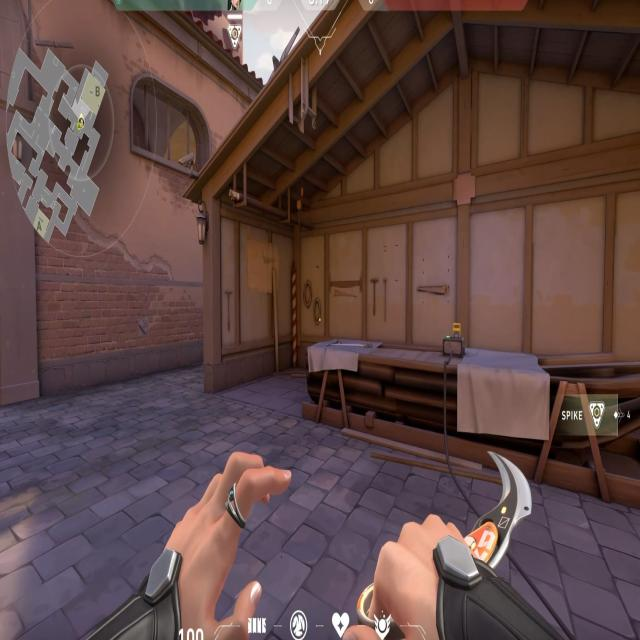B_Garage_Left: (195, 192, 454, 460)
Throwables: (131, 68, 213, 194)
